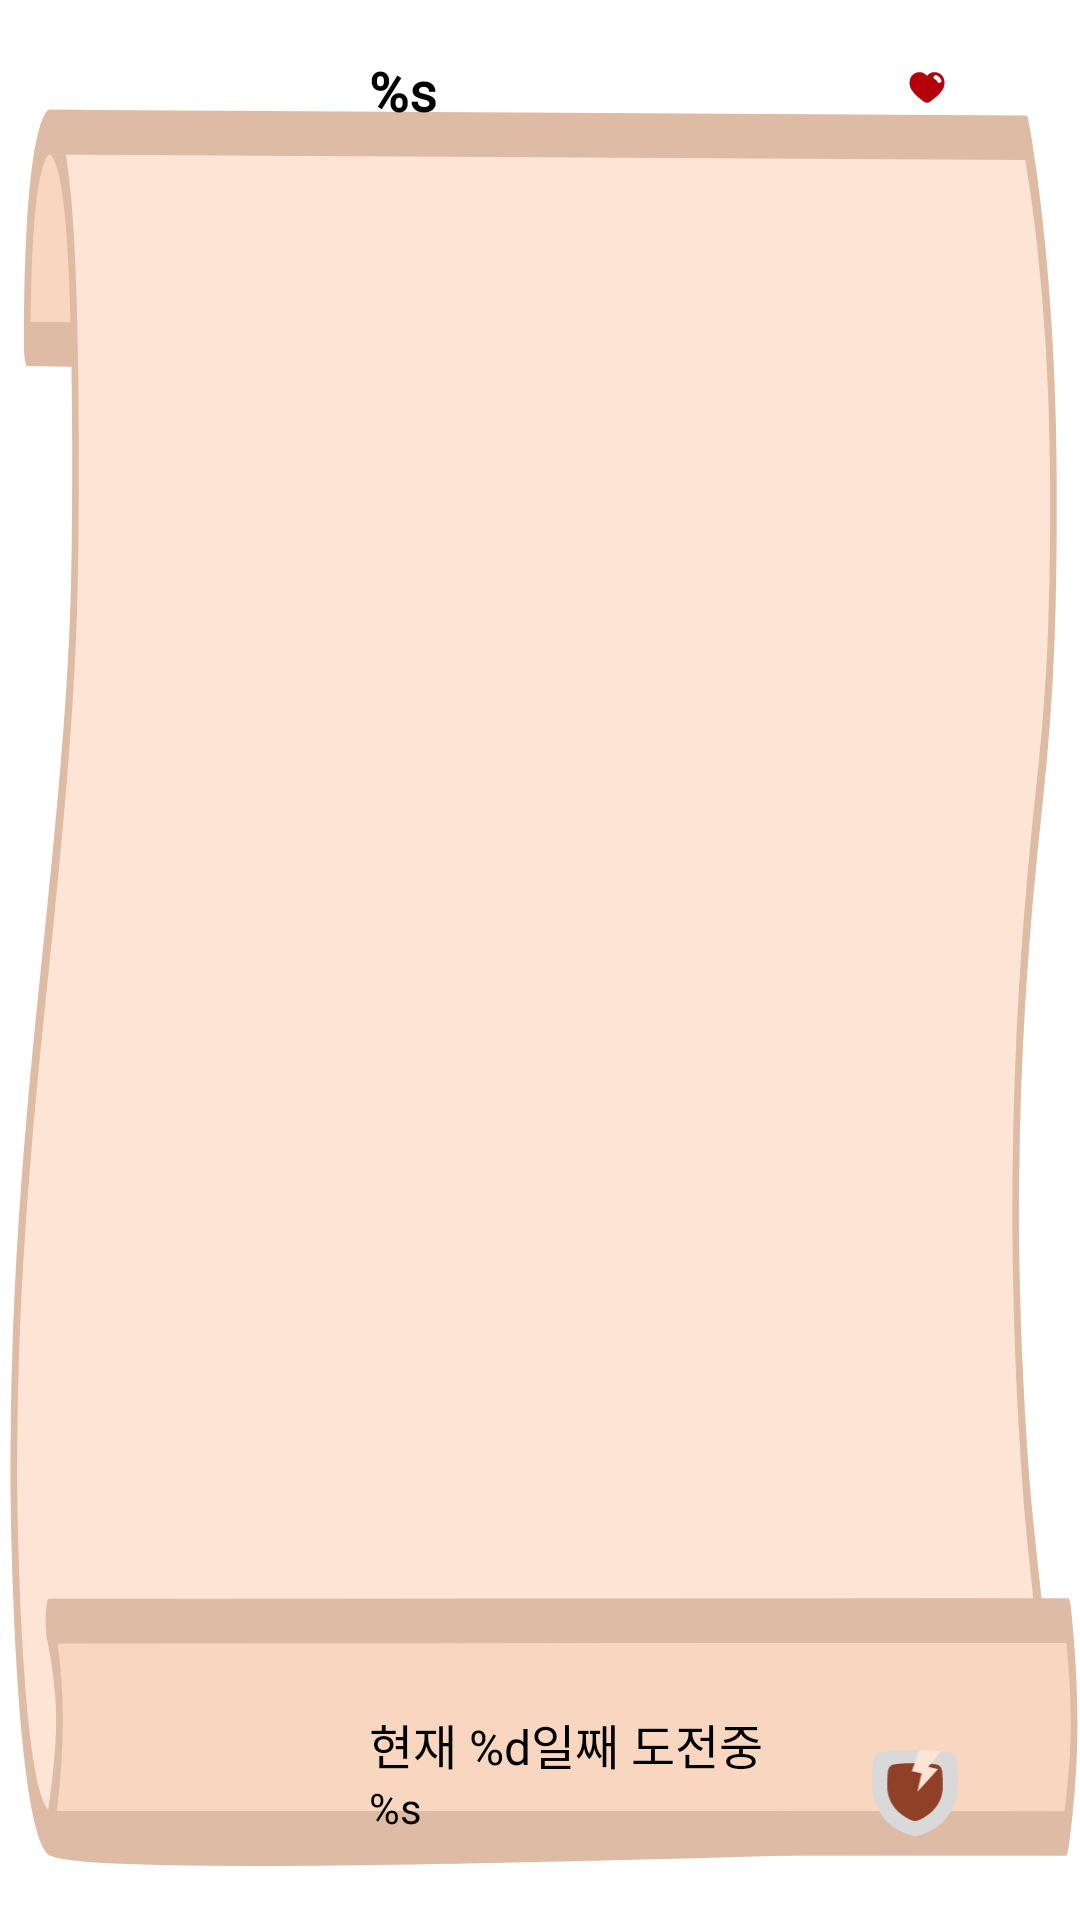

Named icons in this screenshot (1080*1920) and their centers, [x,y]:
heart: [927,87]
shield: [915,1793]
